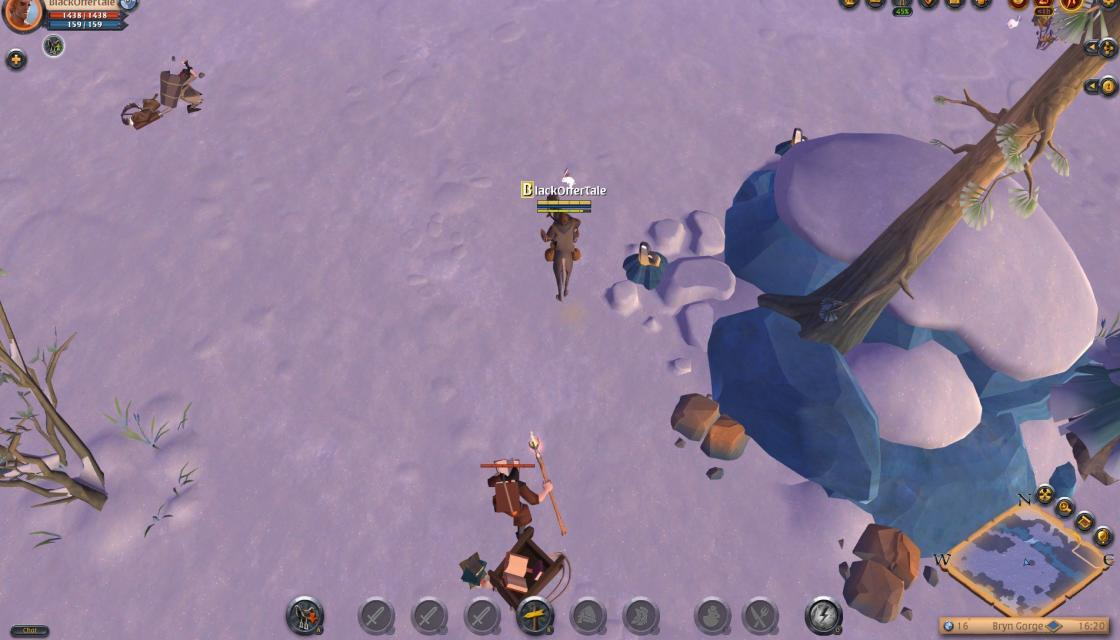copperore: (618, 237, 674, 293), (774, 122, 816, 152)
limestone: (836, 518, 920, 626), (668, 387, 750, 464)
